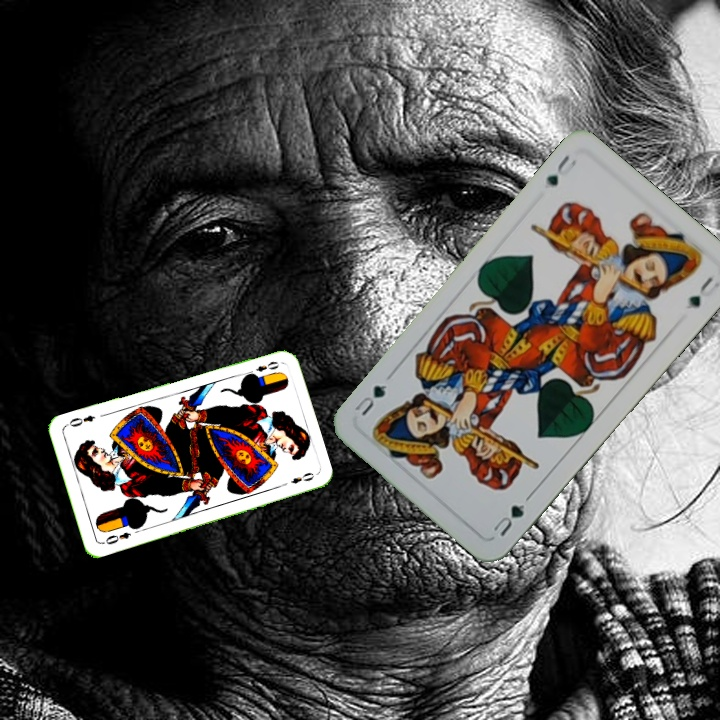EO: (243, 357, 282, 378), (98, 528, 133, 547)
GU: (489, 500, 528, 540), (542, 151, 579, 189)
